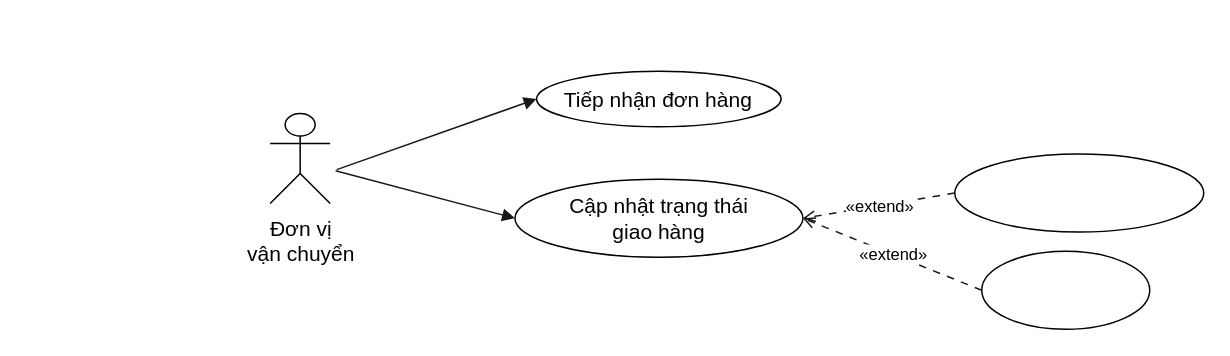
This 1230x356 diagram has some shape labels left out. Here are the shapes that lost their labels. From the top down, the box of each, then its label:
(953, 153, 1204, 232): Giao hàng không thành công
(980, 250, 1150, 329): Giao hàng thành công
